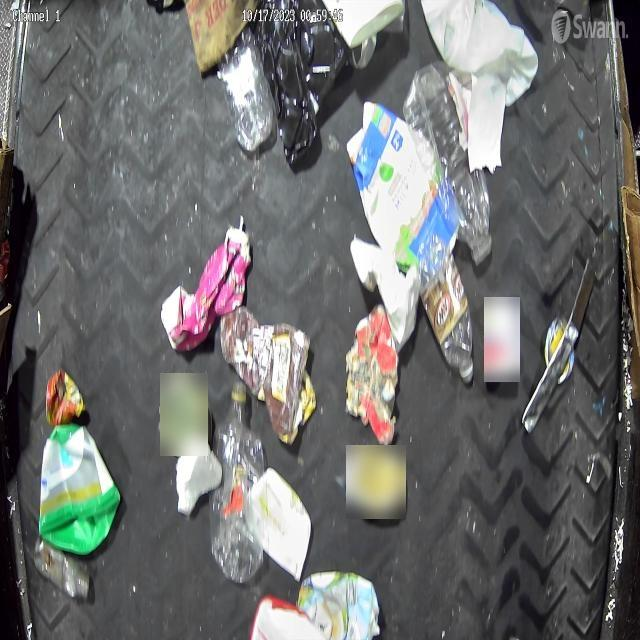milk_jug: (418, 1, 539, 102)
non_white_jug: (347, 100, 459, 274), (298, 571, 379, 640)
plastic_bottle: (402, 67, 492, 263), (212, 382, 268, 586), (416, 238, 474, 382), (218, 21, 276, 151), (31, 537, 92, 603)
